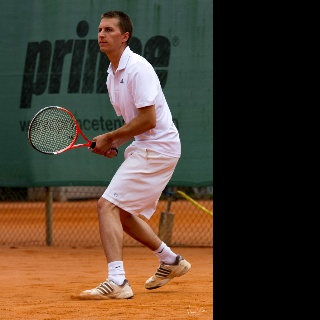without_mask: (97, 17, 123, 52)
